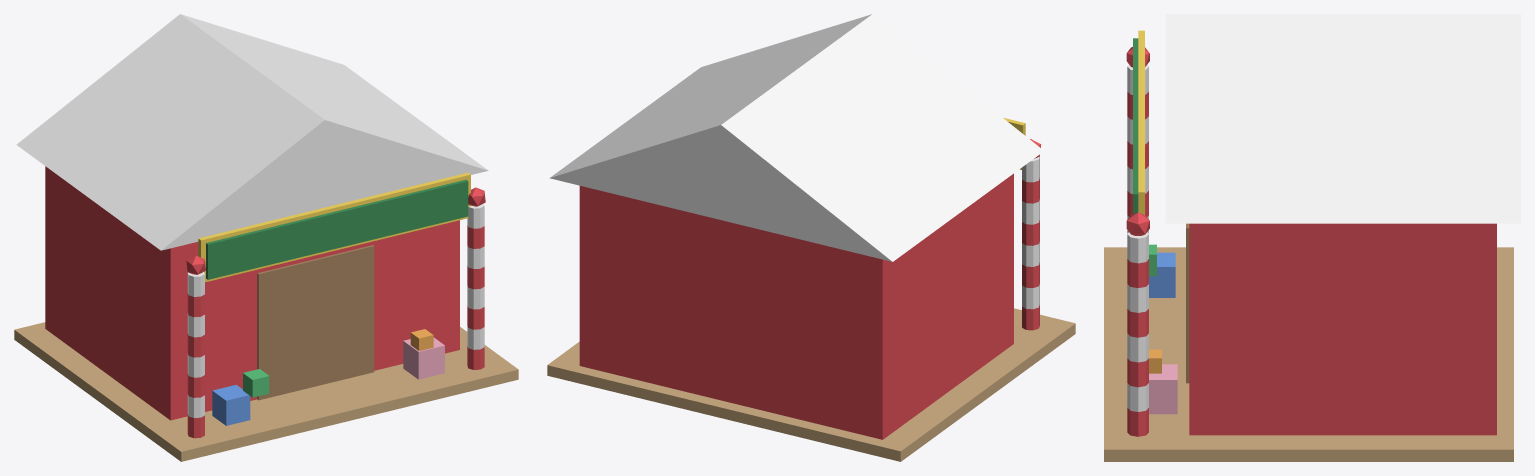
Rendered from Taller.fbx.
3 renders of one model, left to right at view 1: azimuth 30°, elevation 25°; view 2: azimuth 150°, elevation 25°; view 3: azimuth 270°, elevation 25°, orthographic. The views are drawn at different scales.
Visible parts, largest first — view 1: Techo, Paredes, Base, Porton, Letrero, LetreroBorde, RegaloAdorno0, RegaloAdorno2, RegaloAdorno1; view 2: Paredes, Techo, Base; view 3: Techo, Paredes, Base, RegaloAdorno2, LetreroBorde, Letrero, RegaloAdorno0, Porton, BastonD7, BastonD3, BastonD2, BastonD4 (+5 smaller).
Boxes of the visible parts, x1,y1,x2,y2 form: Techo: (16, 14, 488, 250); Paredes: (45, 166, 459, 420); Base: (14, 322, 518, 461); Porton: (257, 245, 374, 400); Letrero: (206, 179, 468, 279); LetreroBorde: (198, 172, 470, 282); RegaloAdorno0: (212, 384, 250, 425); RegaloAdorno2: (403, 337, 444, 379); RegaloAdorno1: (243, 369, 269, 397); Paredes: (579, 173, 1013, 439); Techo: (549, 14, 1043, 261); Base: (547, 308, 1075, 461); Techo: (1165, 14, 1520, 223); Paredes: (1189, 223, 1496, 435); Base: (1104, 247, 1513, 461); RegaloAdorno2: (1149, 364, 1177, 414); LetreroBorde: (1138, 30, 1144, 214); Letrero: (1133, 38, 1138, 213); RegaloAdorno0: (1149, 252, 1175, 297); Porton: (1186, 223, 1189, 383); BastonD7: (1127, 232, 1148, 263); BastonD3: (1127, 333, 1148, 362); BastonD2: (1127, 358, 1148, 387); BastonD4: (1127, 309, 1148, 337).
Bounding box in the file's own units: 7 × 5.6 × 6.1.
